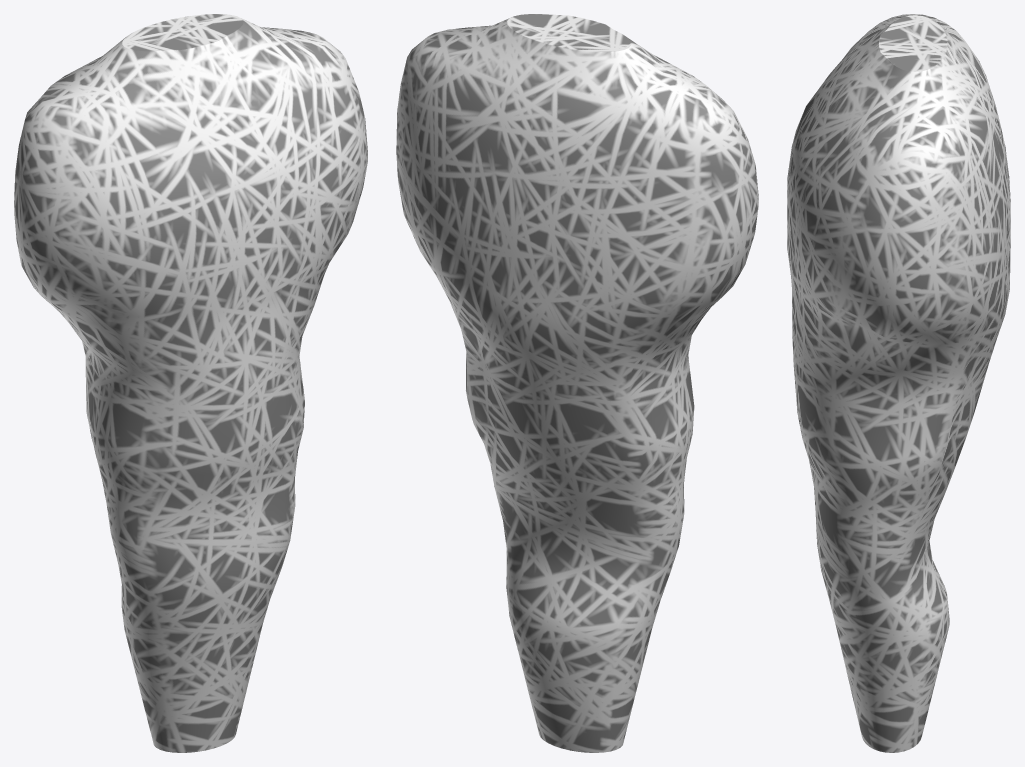
The model's file is npc_Lizard_rope02.fbx.
The picture shows the model from 3 angles, left to right: view 1: azimuth 30°, elevation 25°; view 2: azimuth 150°, elevation 25°; view 3: azimuth 270°, elevation 25°; orthographic projection. The views are drawn at different scales.
Visible parts, largest first — view 1: Cylinder001; view 2: Cylinder001; view 3: Cylinder001.
Boxes of the visible parts, box(x1,y1,x2,y2) form: Cylinder001: box(14, 14, 367, 752); Cylinder001: box(396, 14, 758, 752); Cylinder001: box(787, 14, 1010, 752).
Size of the model in its own units: 73.19 by 144 by 42.38.
1 material, 1 textured.
